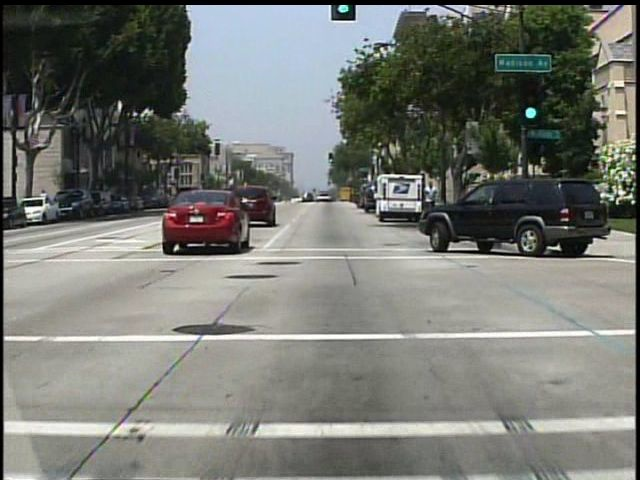person: (423, 181, 440, 221), (353, 185, 368, 213), (41, 187, 52, 212)
